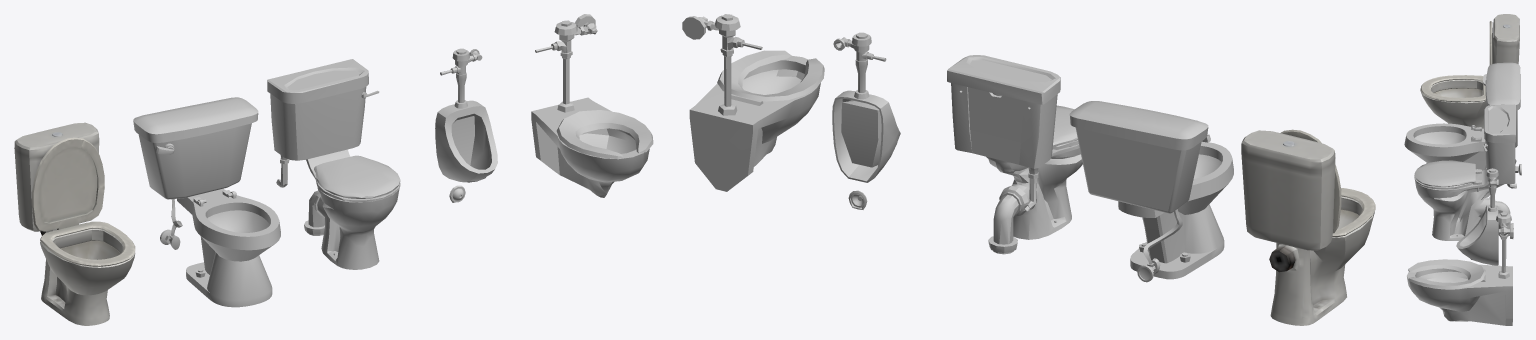
Rendered from toilet.fbx.
3 renders of one model, left to right at view 1: azimuth 30°, elevation 25°; view 2: azimuth 150°, elevation 25°; view 3: azimuth 270°, elevation 25°, orthographic. The views are drawn at different scales.
Visible parts, largest first — view 1: toilet average, Basic toilet, toilet, toilet.parasite, urinal.; view 2: toilet average, toilet, Basic toilet, toilet.parasite, urinal.; view 3: Basic toilet, toilet.parasite, toilet average, toilet, urinal..
Boxes of the visible parts, left/top/right/bottom form: toilet average: left=133, top=97, right=280, bottom=307; Basic toilet: left=267, top=59, right=400, bottom=269; toilet: left=14, top=122, right=135, bottom=325; toilet.parasite: left=531, top=14, right=653, bottom=197; urinal.: left=435, top=48, right=497, bottom=202; toilet average: left=1069, top=101, right=1233, bottom=282; toilet: left=1241, top=129, right=1375, bottom=325; Basic toilet: left=947, top=55, right=1082, bottom=254; toilet.parasite: left=682, top=14, right=824, bottom=191; urinal.: left=832, top=32, right=900, bottom=209; Basic toilet: left=1414, top=104, right=1516, bottom=240; toilet.parasite: left=1407, top=212, right=1513, bottom=325; toilet average: left=1404, top=62, right=1521, bottom=197; toilet: left=1420, top=14, right=1519, bottom=128; urinal.: left=1456, top=168, right=1498, bottom=265.
Bounding box in the file's own units: 3.81 × 1.04 × 0.9107.
